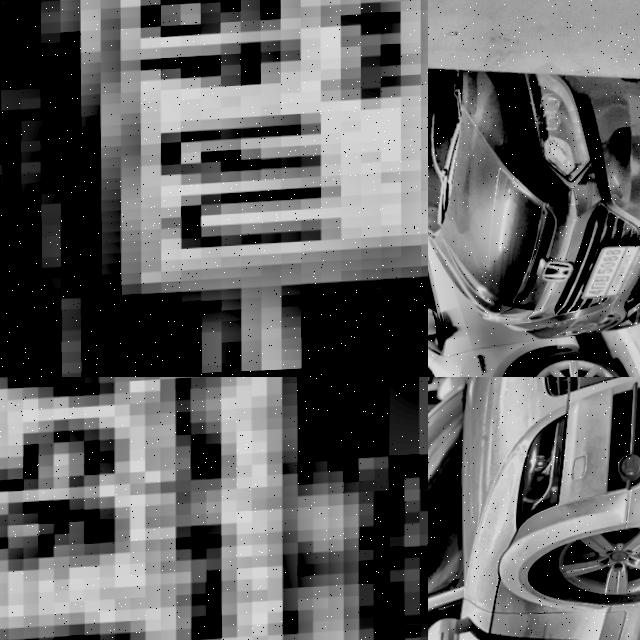license-plate: (0, 0, 428, 377), (0, 377, 368, 640), (578, 244, 640, 302)
